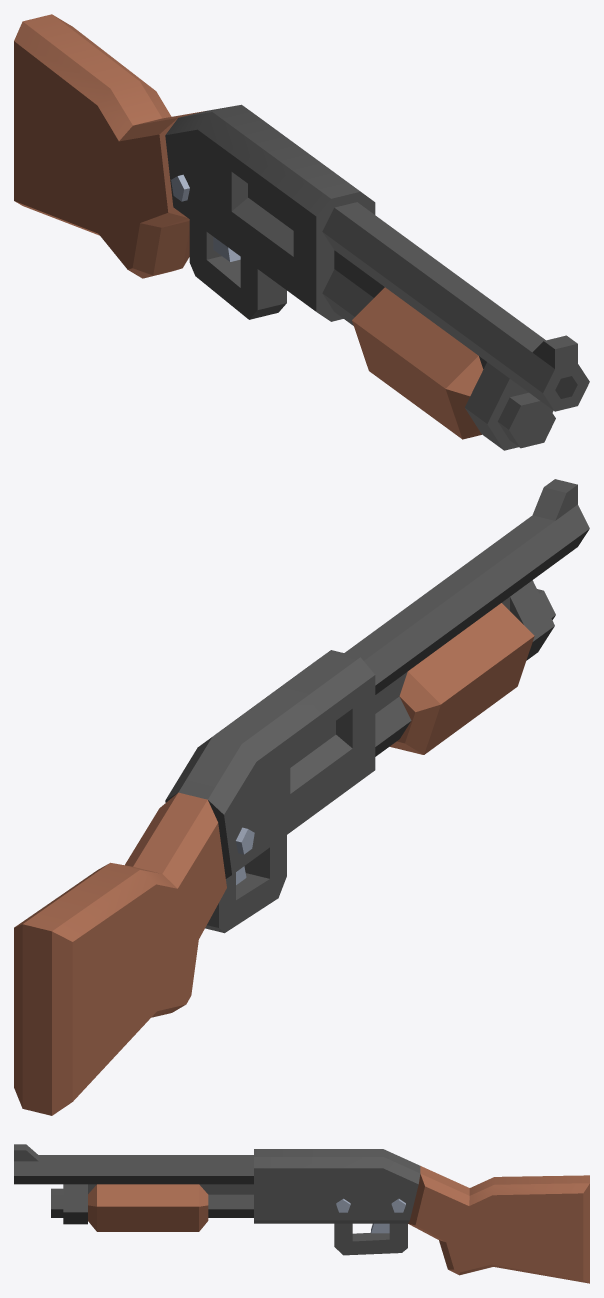
Rendered from Shotgun.fbx.
3 renders of one model, top to bottom at view 1: azimuth 30°, elevation 25°; view 2: azimuth 150°, elevation 25°; view 3: azimuth 270°, elevation 25°, orthographic. The views are drawn at different scales.
Visible parts, largest first — view 1: Shotgun; view 2: Shotgun; view 3: Shotgun.
Boxes of the visible parts, left/top/right/bottom form: Shotgun: left=14, top=14, right=589, bottom=450; Shotgun: left=14, top=479, right=589, bottom=1115; Shotgun: left=14, top=1144, right=589, bottom=1283.
Bounding box in the file's own units: 30.36 × 79.16 × 312.
